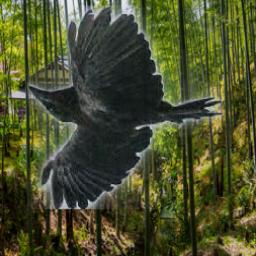Crow: (28, 7, 224, 210)
